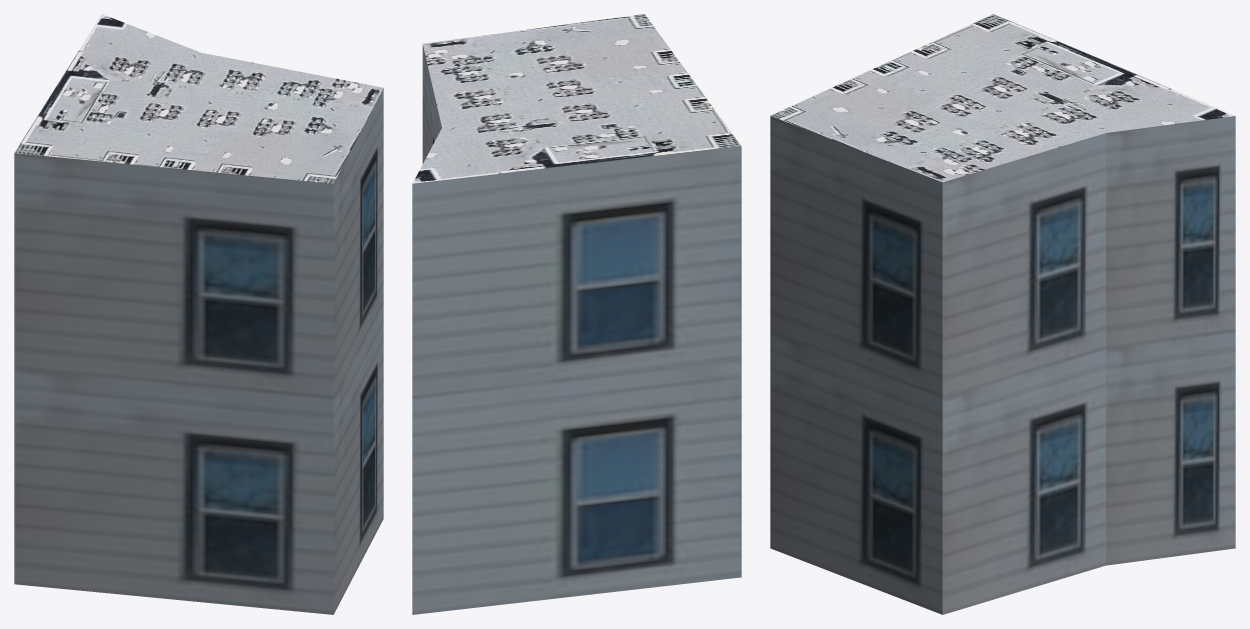
File: ResTex__4308.fbx
3 renders of one model, left to right at view 1: azimuth 30°, elevation 25°; view 2: azimuth 150°, elevation 25°; view 3: azimuth 270°, elevation 25°, orthographic.
Visible parts, largest first — view 1: CityEngineMaterial_18_m, CityEngineMaterial_8_m; view 2: CityEngineMaterial_18_m, CityEngineMaterial_8_m; view 3: CityEngineMaterial_18_m, CityEngineMaterial_8_m.
Boxes of the visible parts, x1,y1,x2,y2 form: CityEngineMaterial_18_m: (14, 88, 383, 614); CityEngineMaterial_8_m: (14, 14, 383, 183); CityEngineMaterial_18_m: (412, 44, 741, 614); CityEngineMaterial_8_m: (412, 14, 740, 183); CityEngineMaterial_18_m: (770, 116, 1235, 614); CityEngineMaterial_8_m: (770, 14, 1234, 182).
Bounding box in the file's own units: 5.01 × 6 × 5.85.
2 materials, 2 textured.
